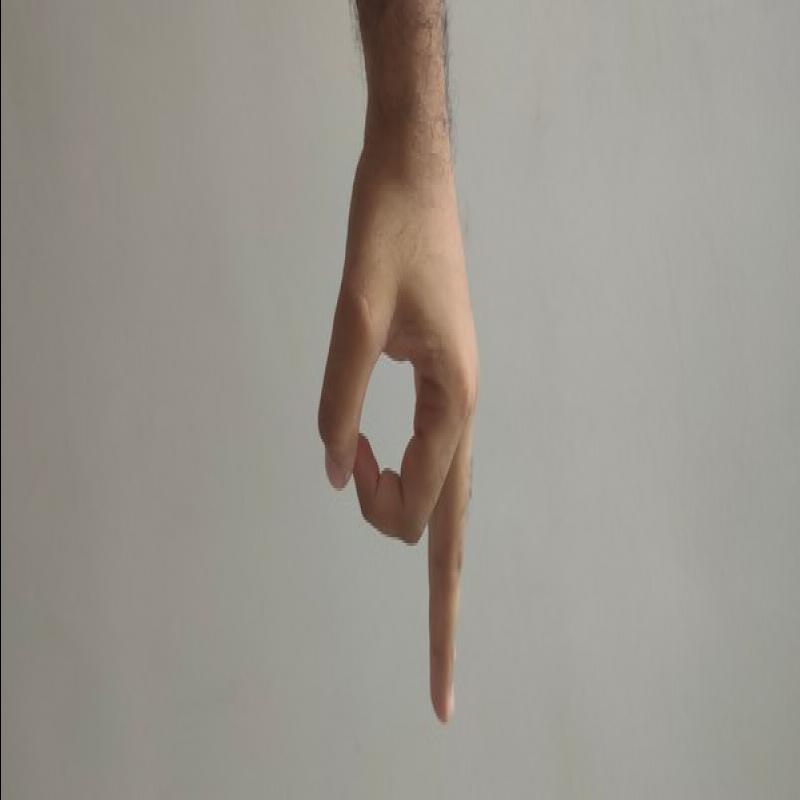Mudraakhyam: (297, 121, 497, 736)
